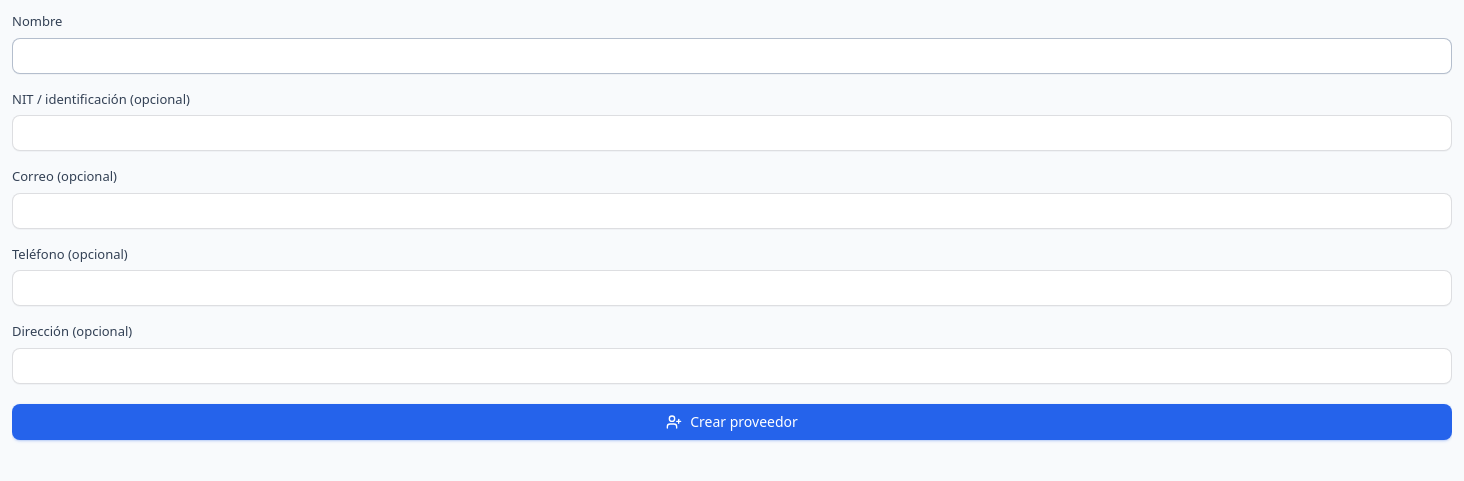
Test: SupplierForm › requires a name of at least 2 characters
Type "A" into the field labelled "Nombre".
click(732, 56); type("A")  # box [12,38,1452,74]
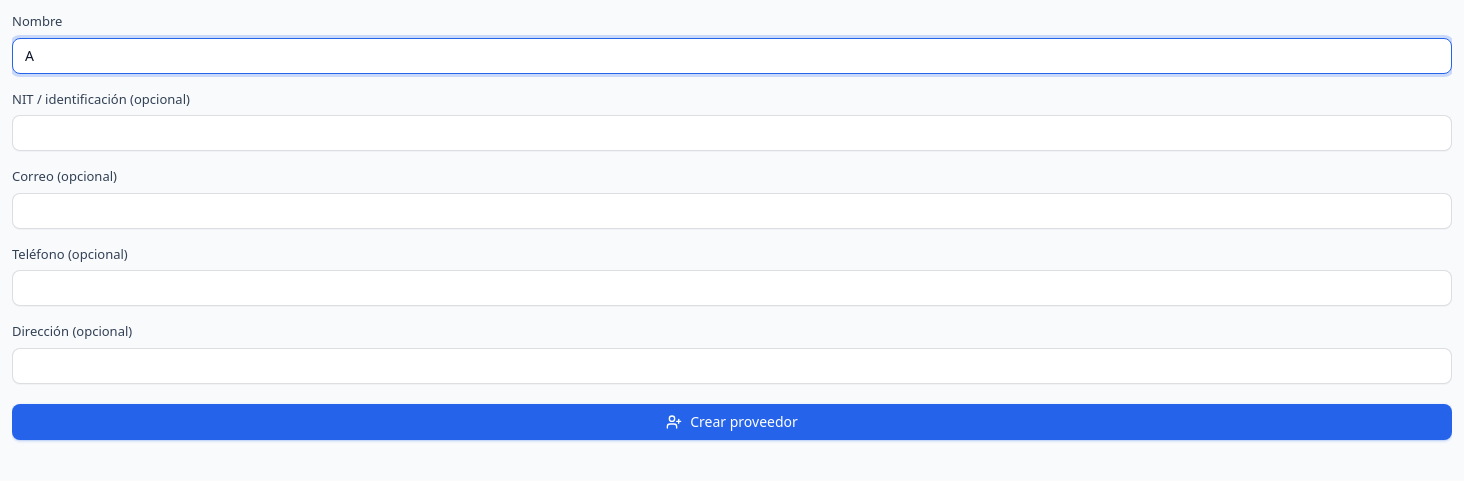
Click the button "Crear proveedor".
click(732, 422)  # box [12,404,1452,440]
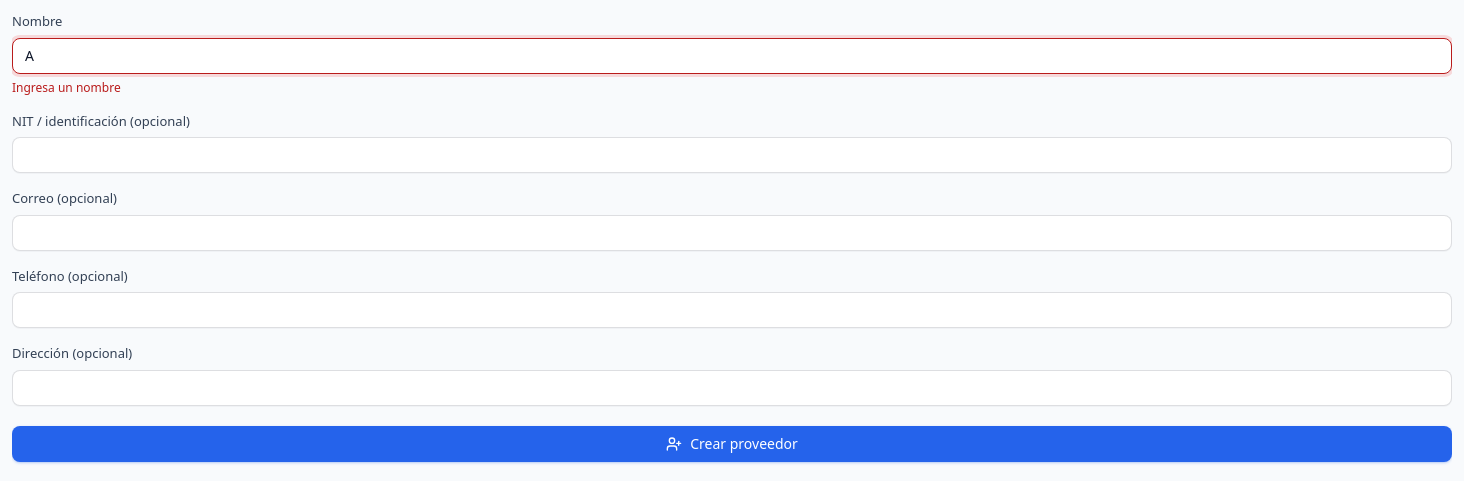
Check: the text "Ingresa un nombre" is shown, box [12,78,121,96]
